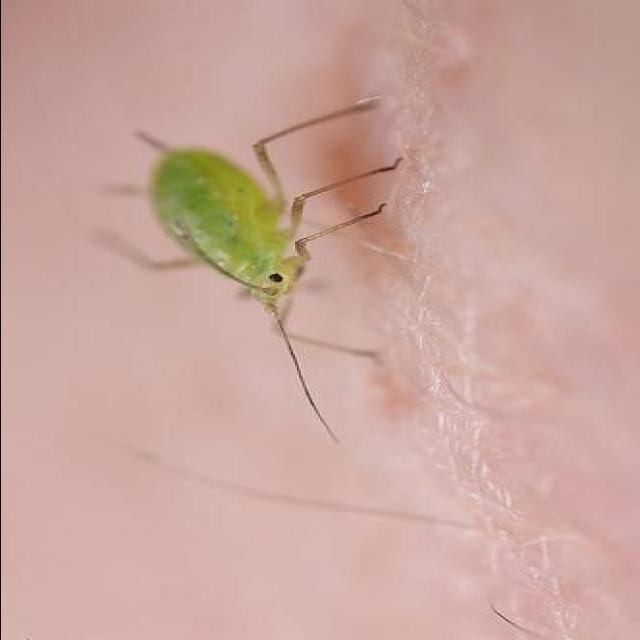aphid: (82, 61, 432, 434)
